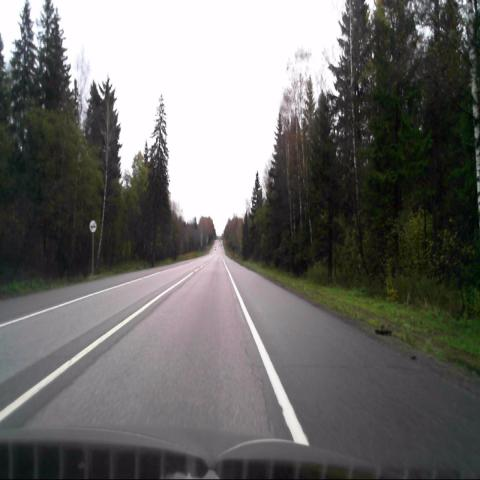3_21: (89, 220, 97, 234)
